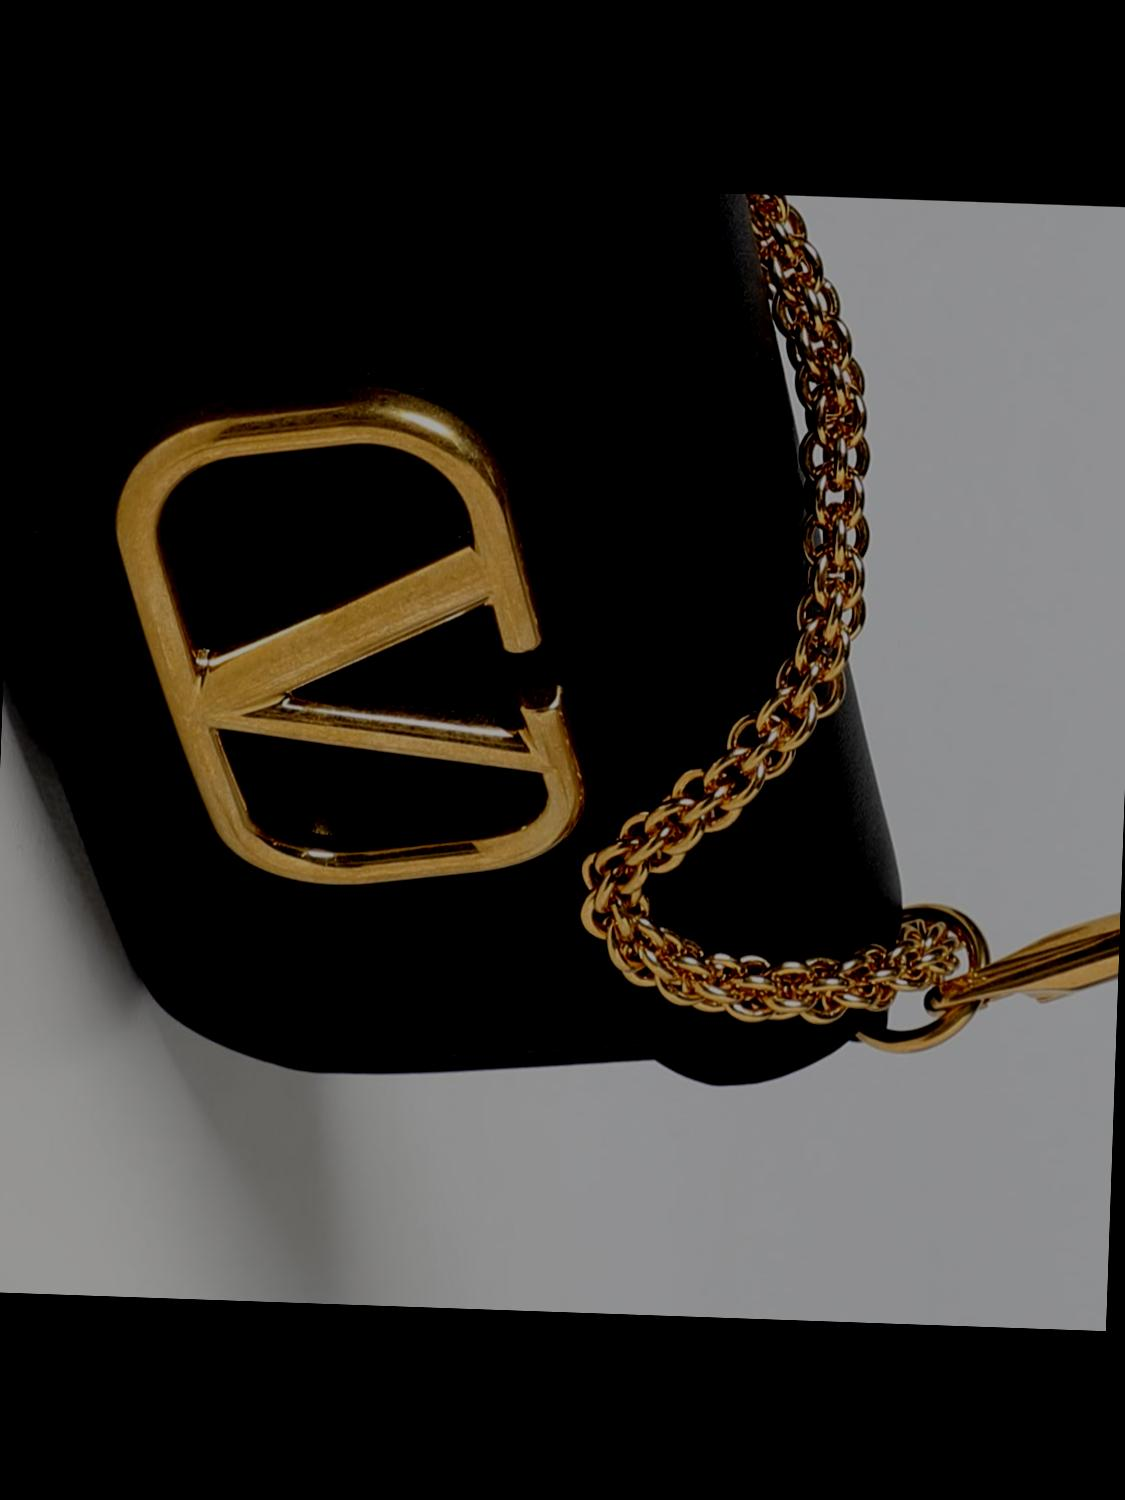VALENTINO: (99, 377, 607, 896)
